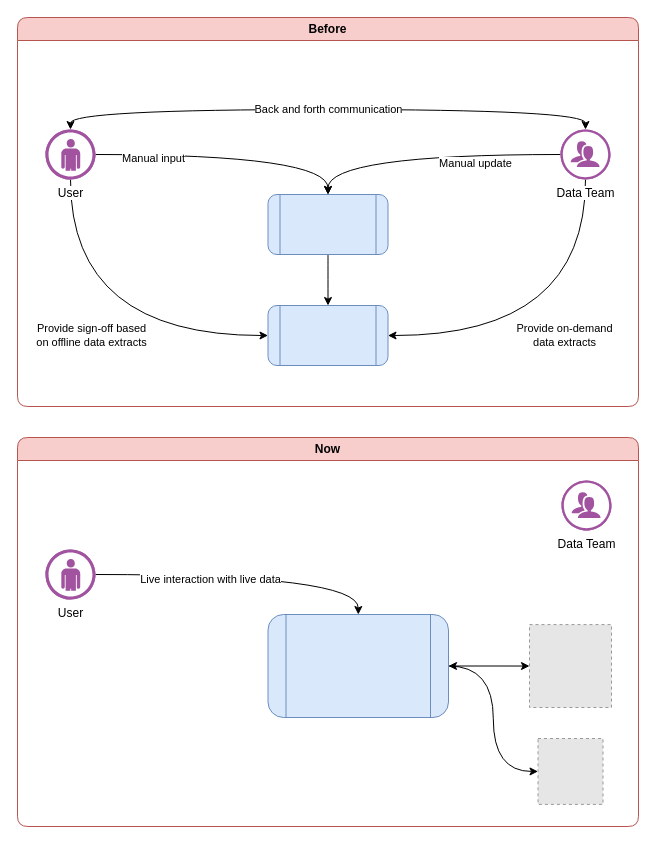
The diagram is 656 pixels wide and 844 high, and some of its shapes have lost their labels. Grey dashed boxes stand in for pictures. Each missing label, with the centre of its shape:
Manual data validation: (327,335)
Manual mapping update: (327,224)
Streamlit App: - Data mapping - Data Validation - Back-end automation: (357,666)
